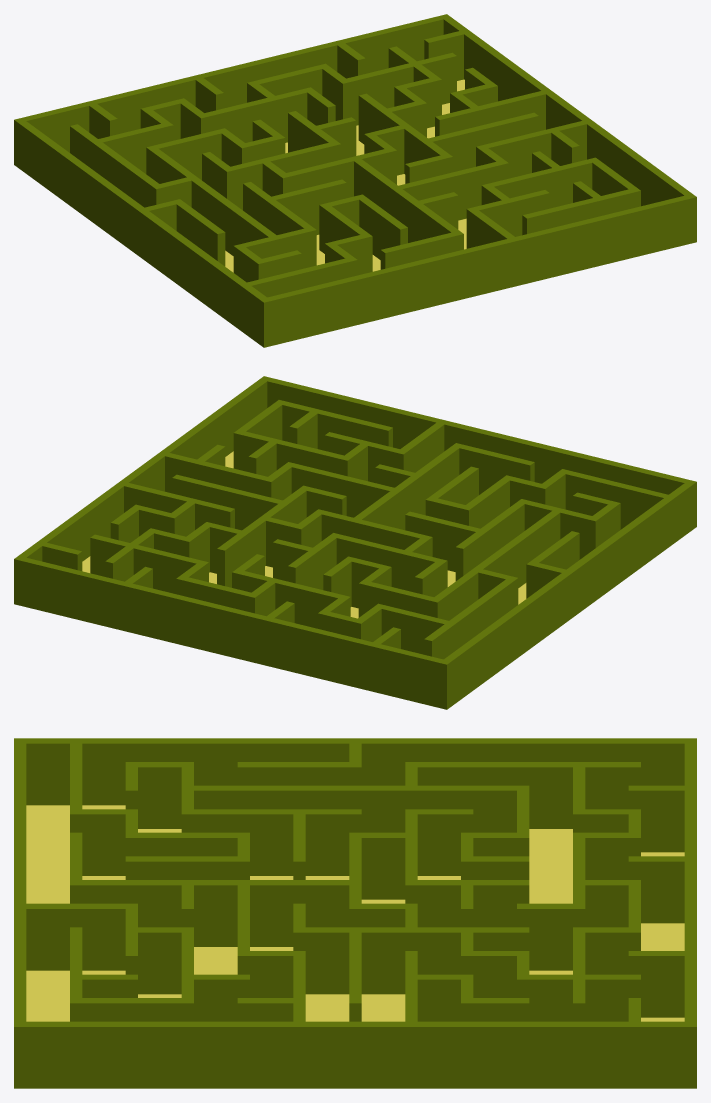
File: Level28Ground.FBX
The picture shows the model from 3 angles, top to bottom: view 1: azimuth 30°, elevation 25°; view 2: azimuth 150°, elevation 25°; view 3: azimuth 270°, elevation 25°; orthographic projection. The views are drawn at different scales.
Parts seen in each view (by area): view 1: Labyrinth003; view 2: Labyrinth003; view 3: Labyrinth003.
Part boxes in pixels (x1=…): Labyrinth003: x1=14, y1=14, x2=696, y2=347; Labyrinth003: x1=14, y1=376, x2=696, y2=709; Labyrinth003: x1=14, y1=738, x2=696, y2=1088.
Size of the model in its own units: 281 by 28 by 281.
